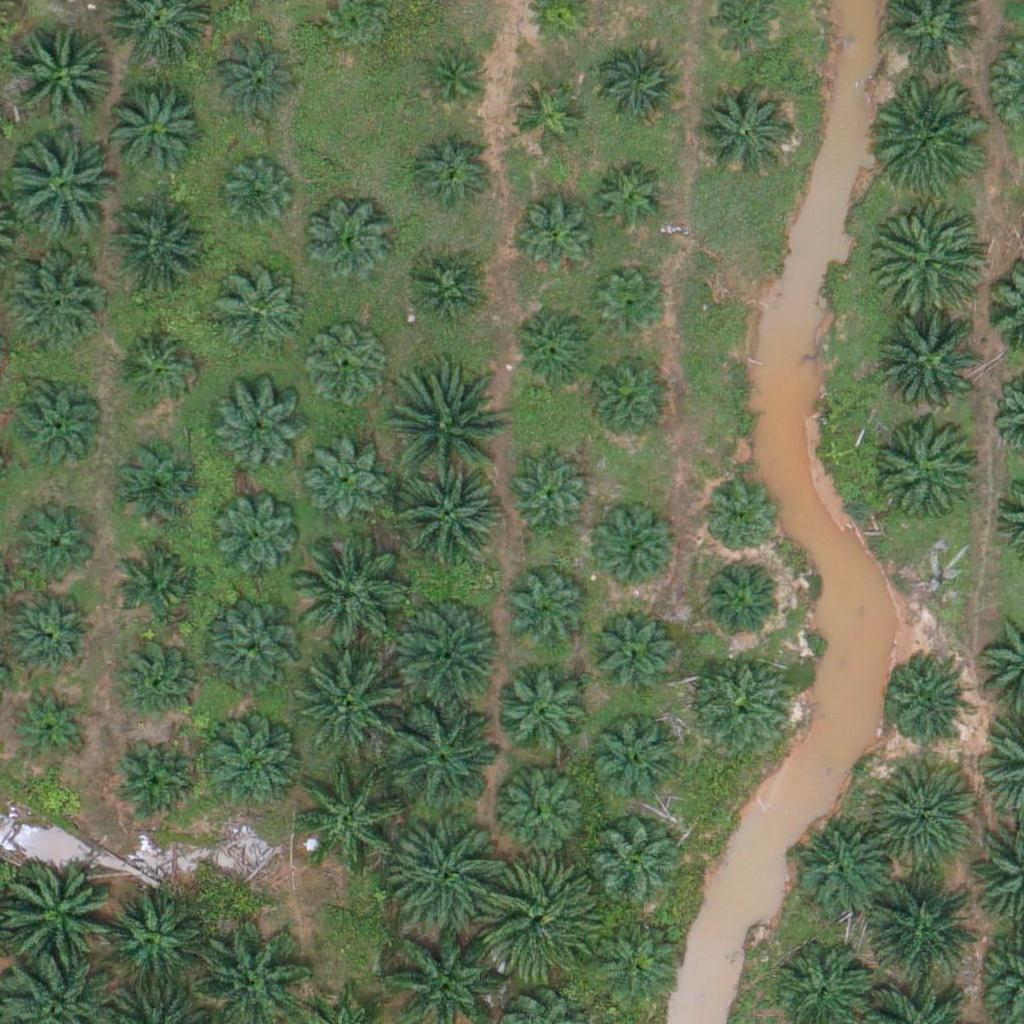Kelapa_Sawit: (867, 759, 980, 873), (873, 77, 986, 191), (384, 596, 497, 710), (869, 201, 982, 314), (483, 860, 596, 973), (391, 373, 504, 486), (388, 694, 501, 807), (96, 198, 209, 311), (5, 135, 118, 248), (866, 867, 978, 981), (876, 310, 988, 424), (395, 821, 507, 935), (11, 20, 123, 134), (389, 466, 501, 579), (296, 760, 408, 873), (296, 651, 408, 764), (292, 539, 404, 652), (2, 860, 114, 973), (879, 419, 979, 520), (694, 83, 794, 184), (692, 652, 792, 753), (584, 713, 684, 814), (201, 606, 301, 707), (105, 85, 205, 186), (2, 252, 102, 353), (102, 887, 202, 988), (792, 820, 892, 921), (494, 759, 594, 859), (498, 663, 598, 763), (200, 712, 300, 812), (511, 189, 599, 278), (409, 133, 497, 221), (397, 249, 485, 337), (581, 356, 669, 444), (595, 917, 683, 1005), (504, 566, 592, 654), (213, 392, 301, 480), (213, 493, 301, 581), (13, 378, 101, 466), (112, 741, 200, 829), (114, 324, 202, 412), (303, 325, 391, 413), (212, 38, 300, 126), (597, 42, 685, 130), (880, 653, 967, 741), (510, 304, 597, 392), (503, 452, 590, 540), (592, 509, 679, 597), (699, 555, 786, 643), (593, 825, 680, 913), (588, 604, 675, 692), (11, 503, 98, 591), (12, 587, 99, 675), (110, 631, 197, 719), (118, 534, 205, 622), (110, 437, 197, 525), (305, 196, 392, 284), (302, 438, 389, 526), (216, 269, 303, 357), (220, 159, 295, 235), (593, 269, 668, 345), (13, 684, 88, 760), (702, 482, 777, 558), (416, 42, 491, 118), (508, 80, 583, 155), (596, 164, 671, 239)
